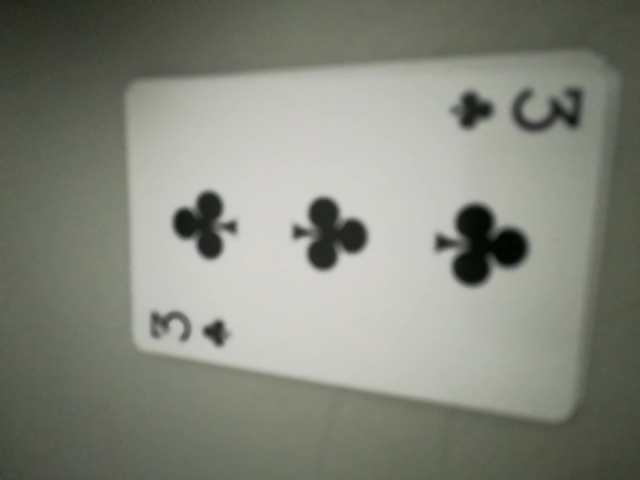mh 3: (447, 73, 591, 143), (140, 300, 236, 356)
